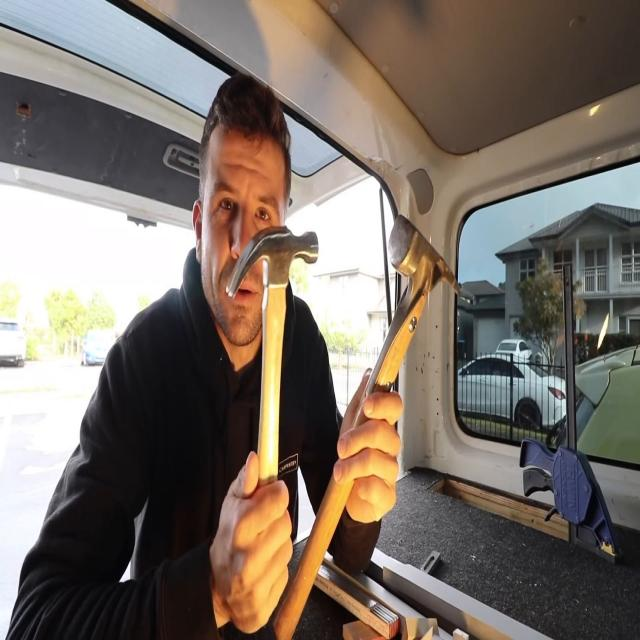hammer: (274, 212, 463, 640), (225, 226, 319, 485)
